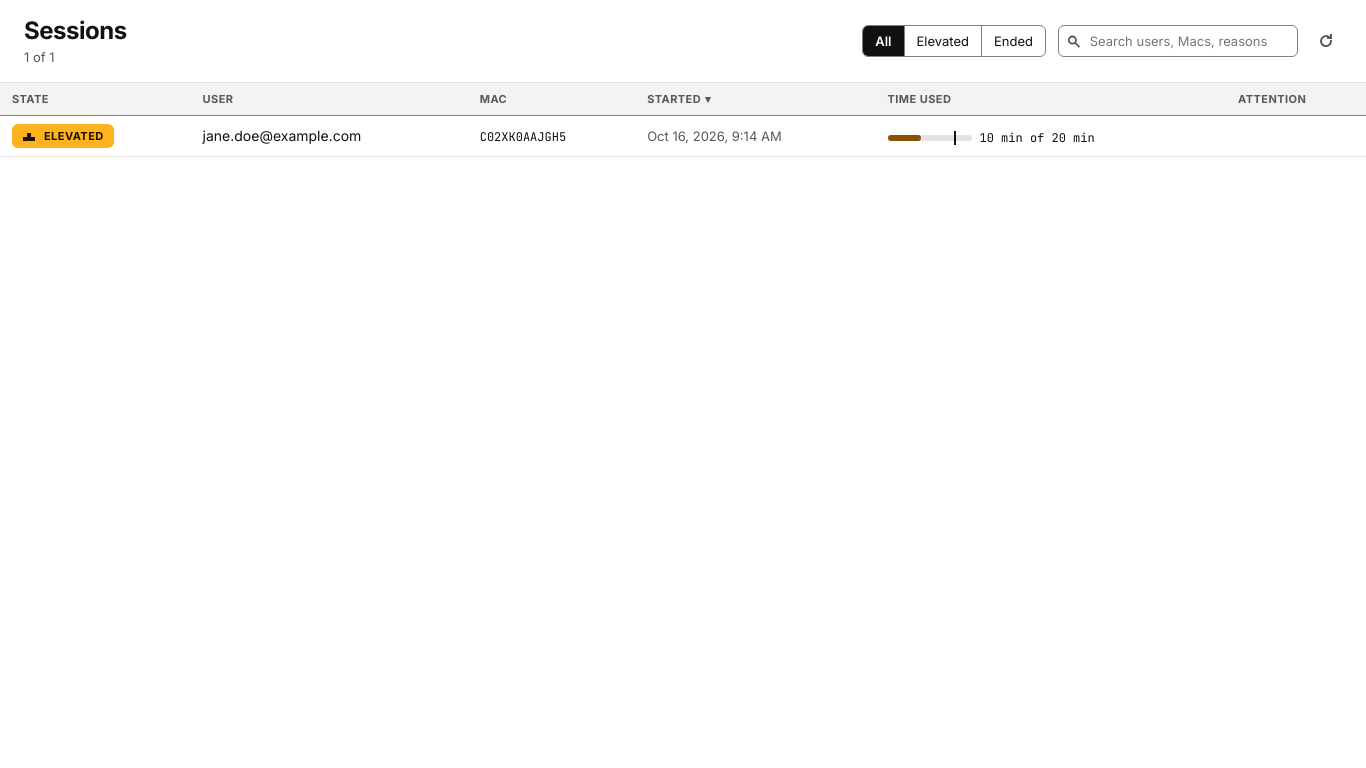
Test: Sessions › reports what the Mac did with the revoke ({"status":"skipped","skipped":[{"user":"jdoe","reason":"not_admin"}]})
The image size is (1366, 768).
Click the text "jane.doe@example.com" at (282, 136), box [202,127,361,144]
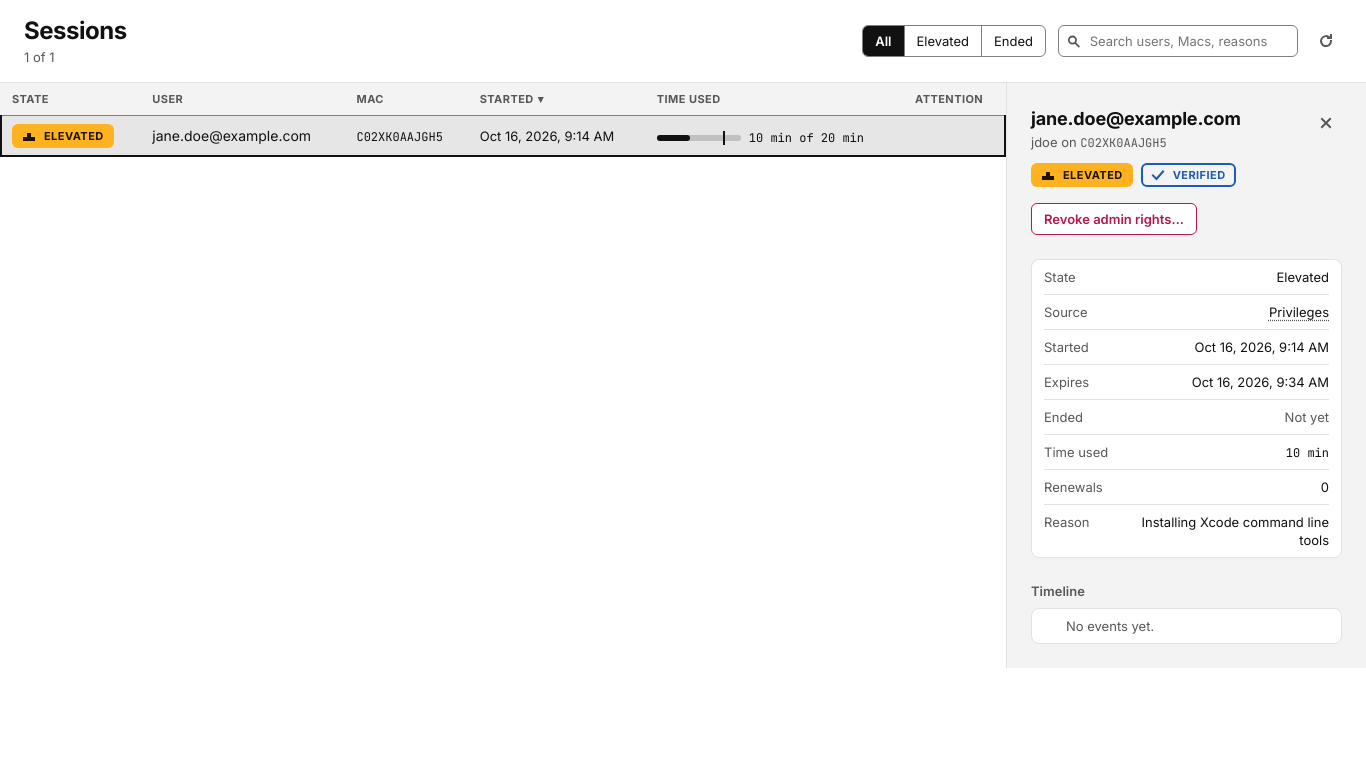
Click the button "Revoke admin rights…" at (1114, 219), box [1031,203,1197,235]
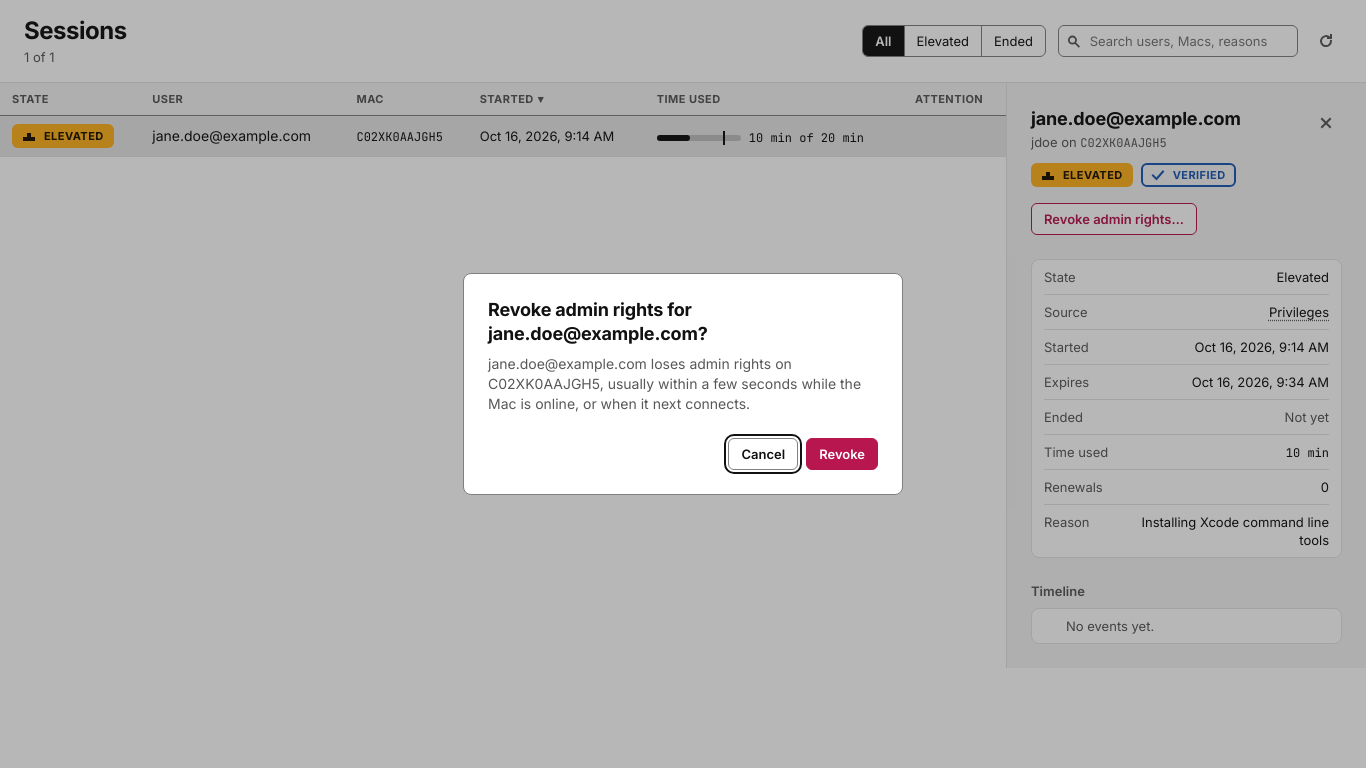
Click the button "Revoke" at (842, 454), box [806,438,878,470]
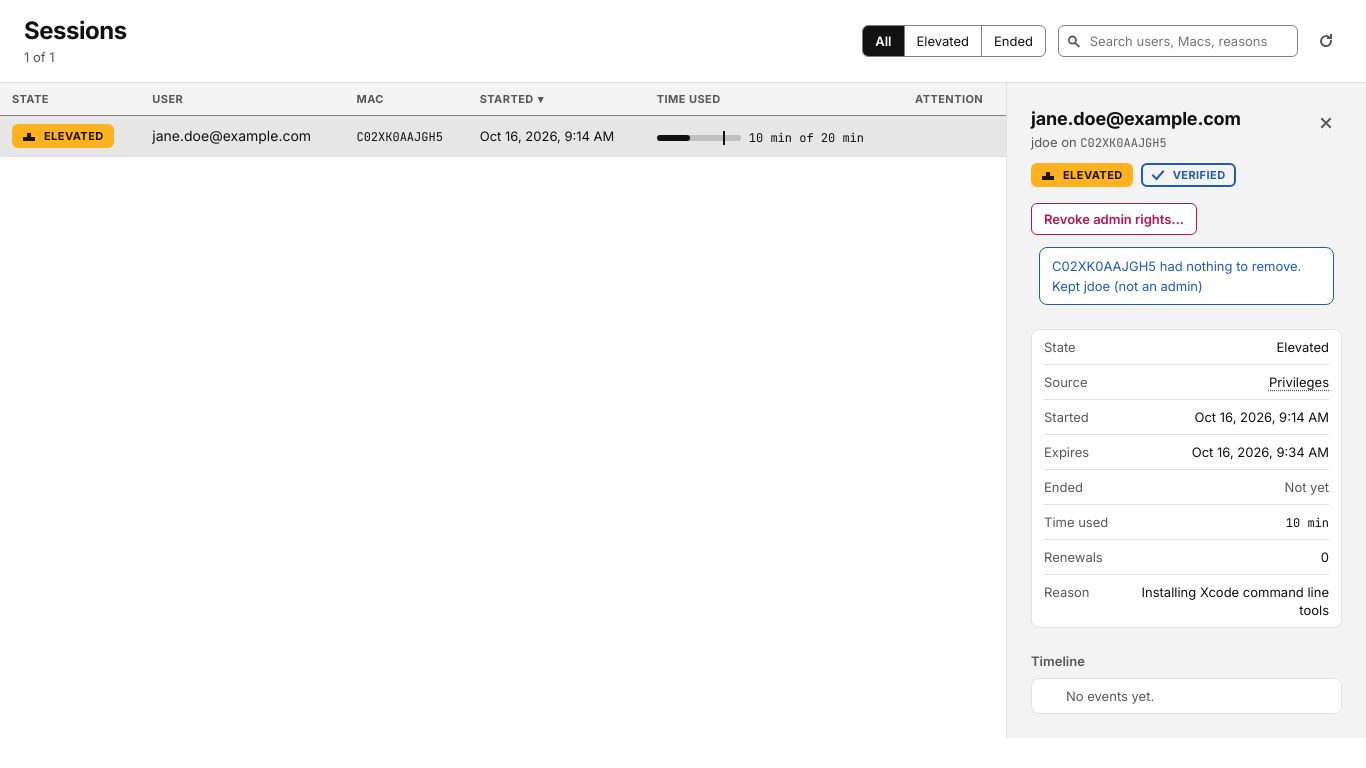
Expected: the message reads "C02XK0AAJGH5 had nothing to remove. Kept jdoe (not an admin)", [1052,258,1301,294]
